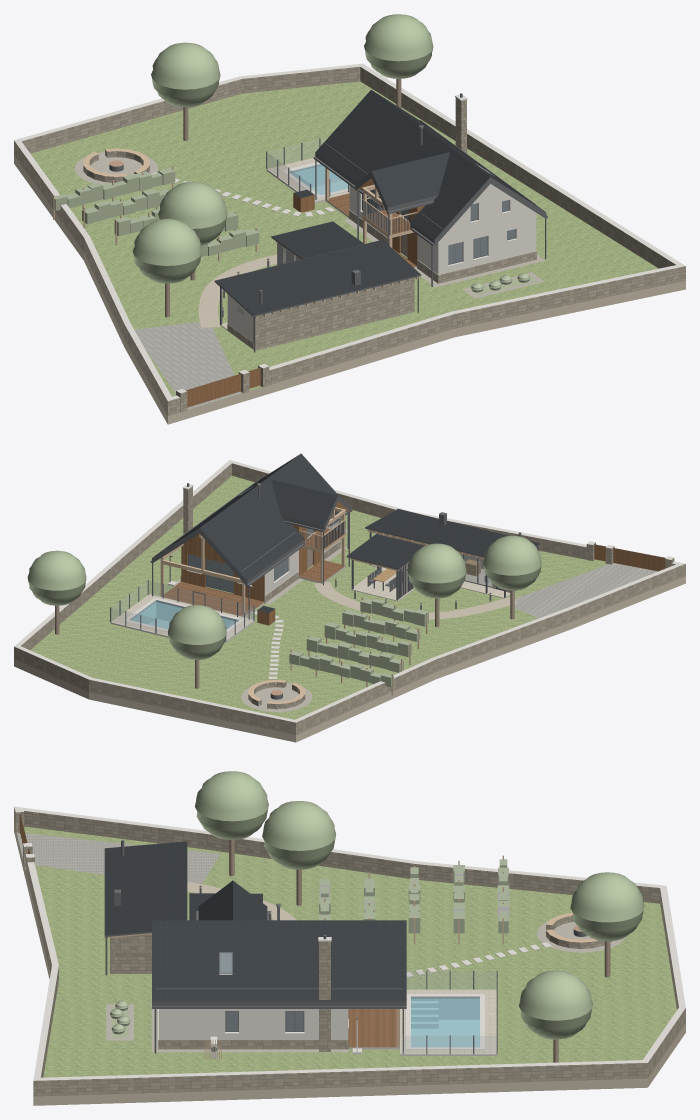
File: arkem-residential.glb
3 views of the same model, one above another, from view 1: azimuth 30°, elevation 25°; view 2: azimuth 150°, elevation 25°; view 3: azimuth 270°, elevation 25° (orthographic). The views are drawn at different scales.
Parts seen in each view (by area): view 1: BuildingPart_0001; view 2: BuildingPart_0001; view 3: BuildingPart_0001.
Part boxes in pixels (x1=…): BuildingPart_0001: x1=14, y1=14, x2=685, y2=424; BuildingPart_0001: x1=14, y1=453, x2=685, y2=742; BuildingPart_0001: x1=14, y1=771, x2=685, y2=1105.
Size of the model in its own units: 37.72 by 8.78 by 39.05.
38 materials, 14 textured.
